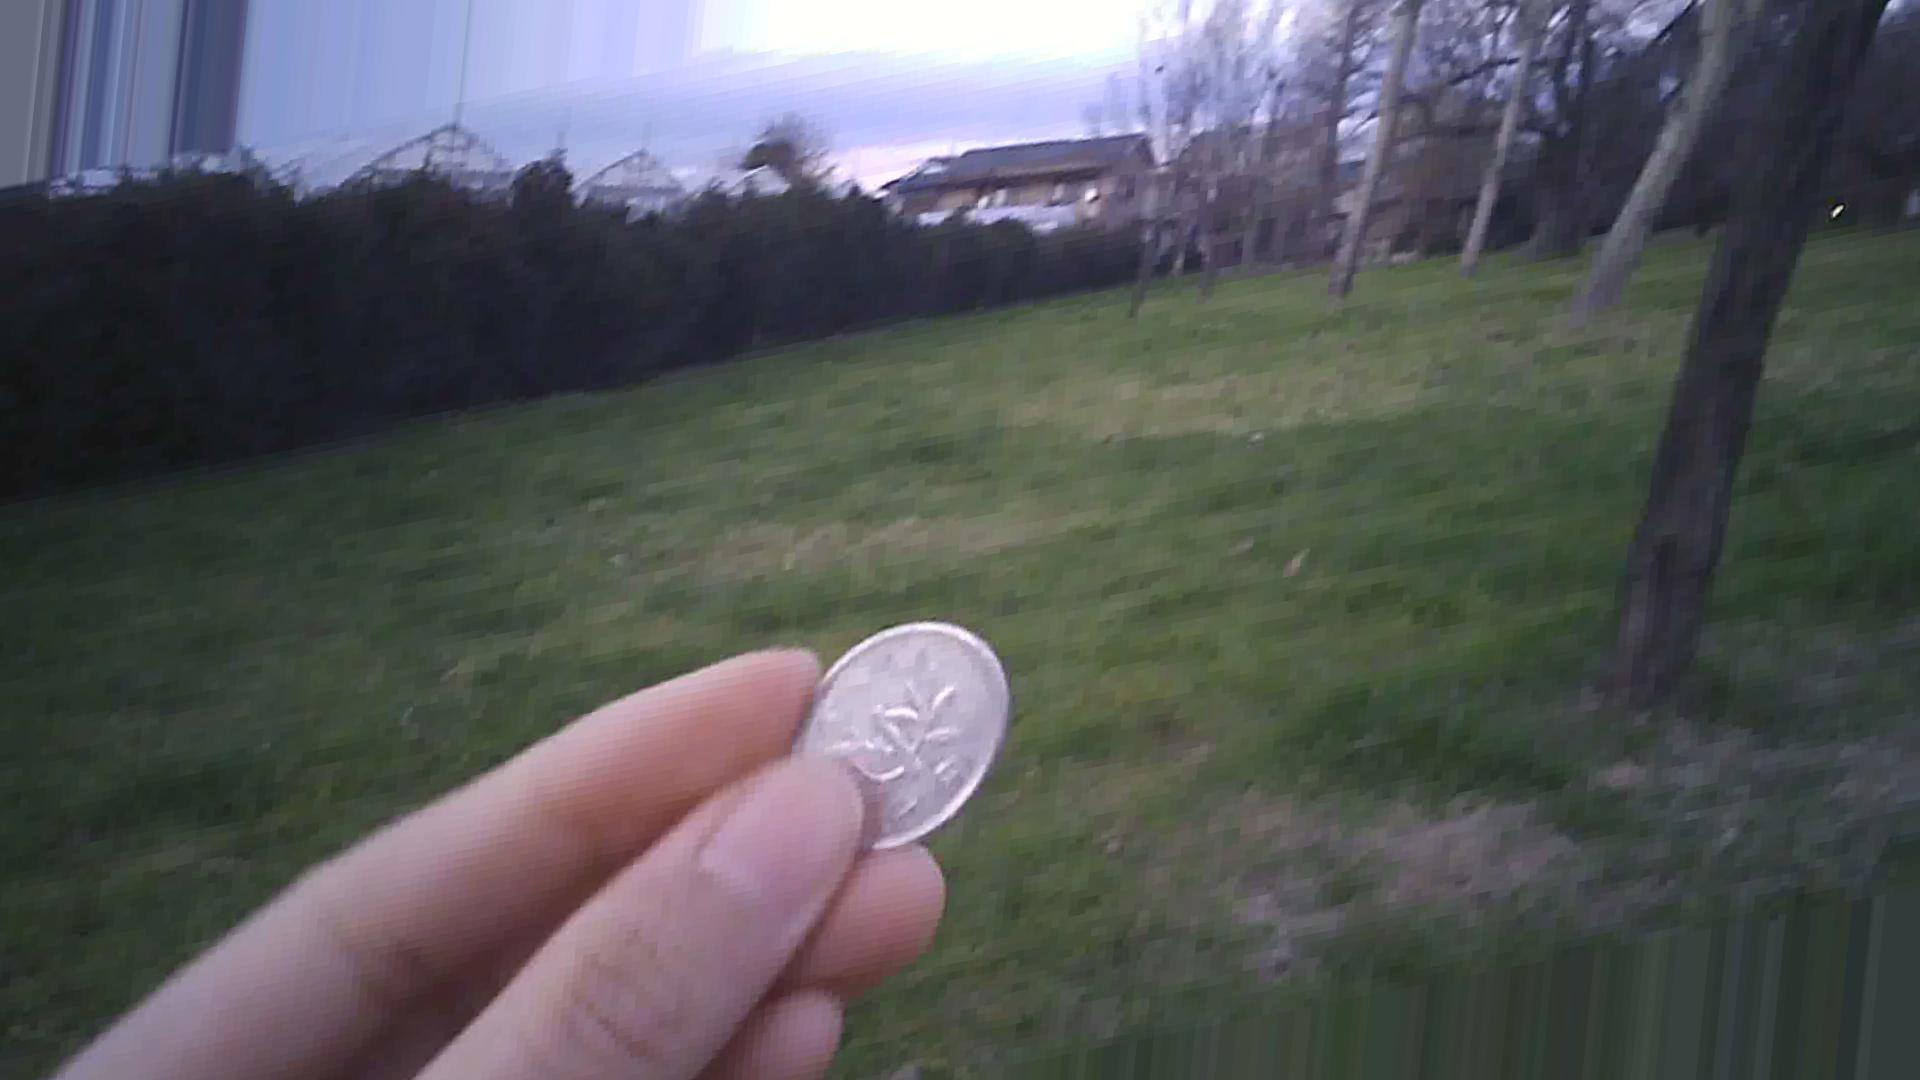1 Yen: (790, 608, 1011, 858)
